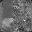people: (1, 17, 14, 28)
